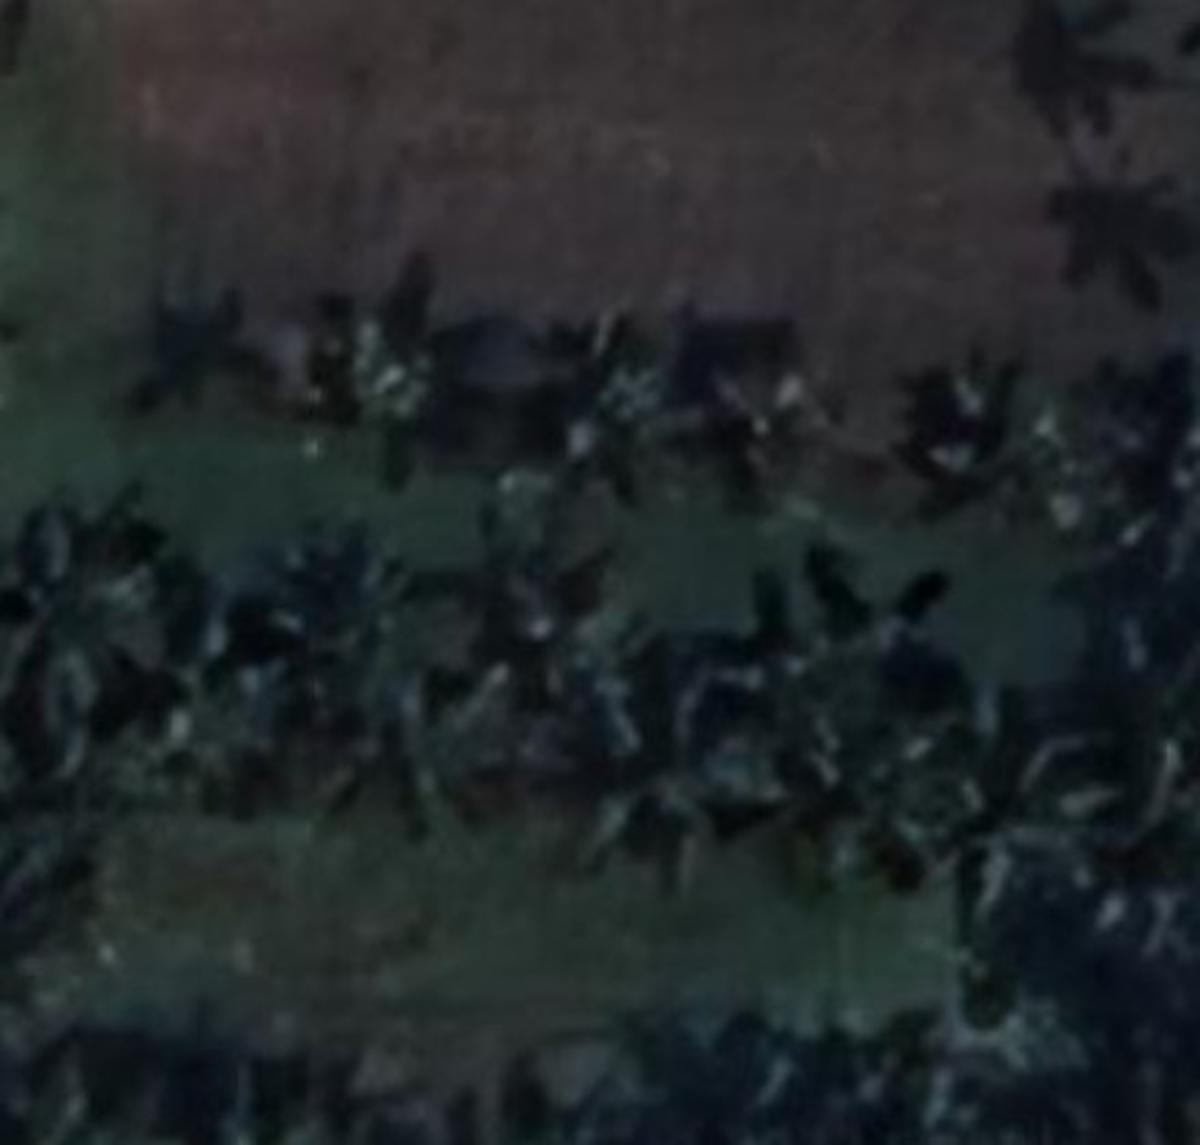coconut: (297, 256, 502, 472), (918, 360, 1066, 513), (697, 355, 839, 511), (532, 330, 652, 511)
